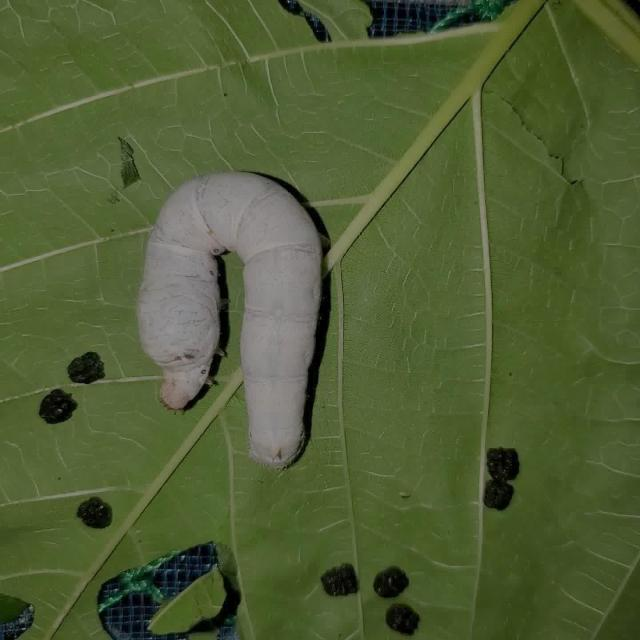Healthy: (107, 142, 330, 492)
